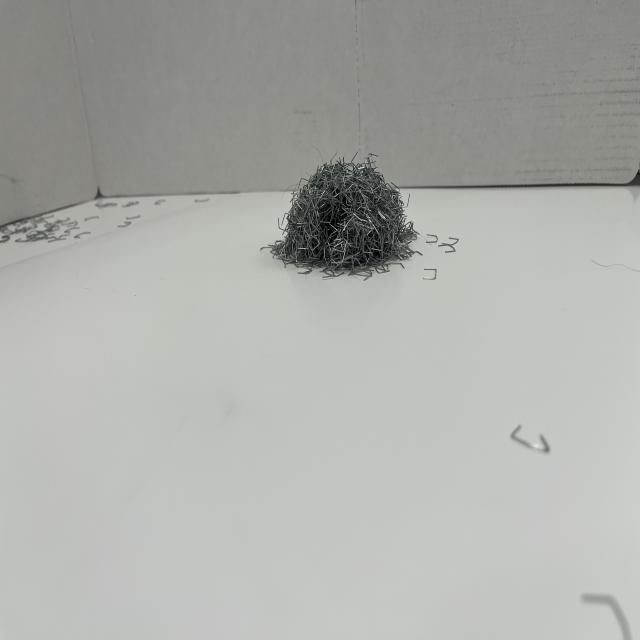staples: (261, 150, 421, 281)
